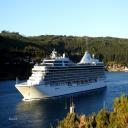cruises: (16, 48, 109, 102)
